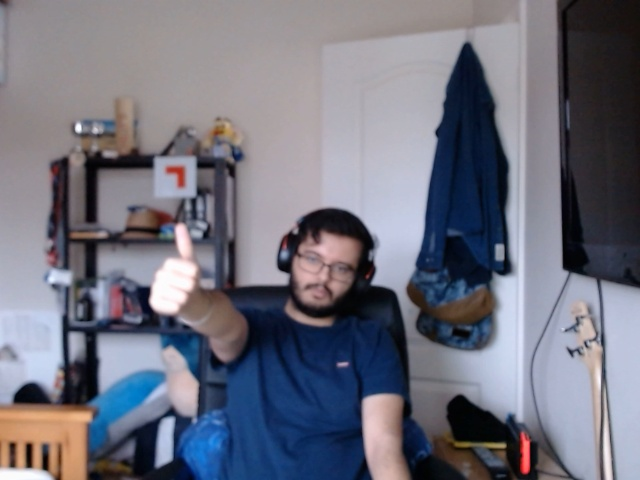Thumbs up: (142, 215, 209, 324)
